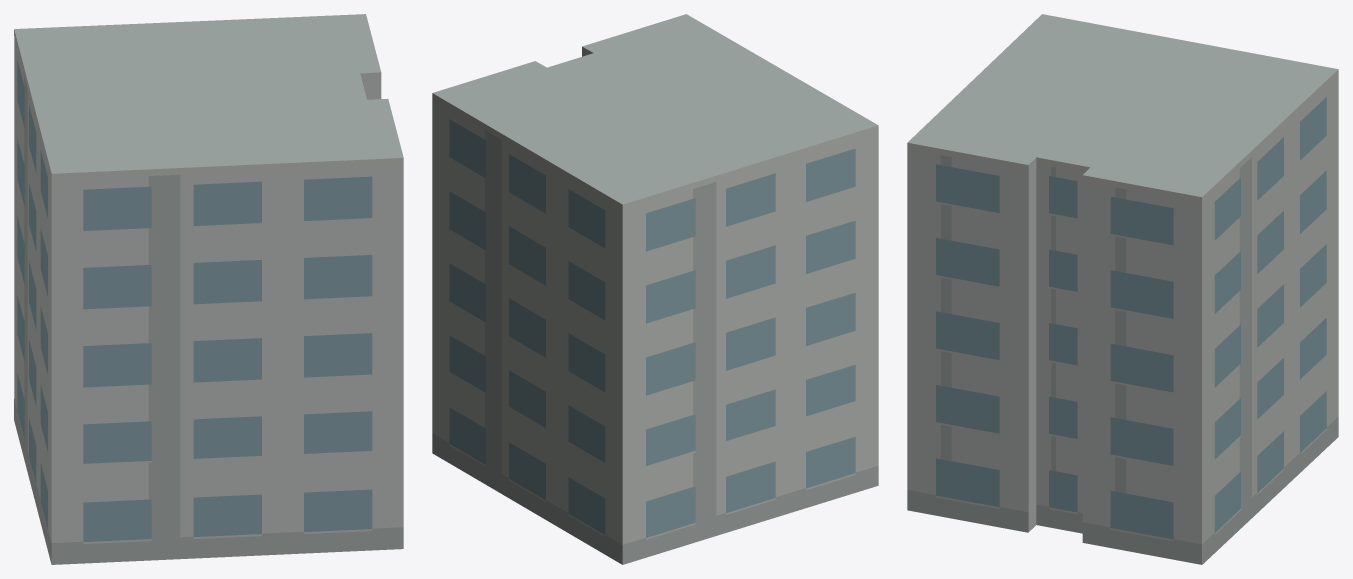
Rendered from survey-upis-32529955.glb.
3 renders of one model, left to right at view 1: azimuth 30°, elevation 25°; view 2: azimuth 150°, elevation 25°; view 3: azimuth 270°, elevation 25°, orthographic. The views are drawn at different scales.
Visible parts, largest first — view 1: survey-upis-32529955.tmp; view 2: survey-upis-32529955.tmp; view 3: survey-upis-32529955.tmp.
Part boxes in pixels (x1=…): survey-upis-32529955.tmp: x1=14, y1=14, x2=403, y2=564; survey-upis-32529955.tmp: x1=432, y1=14, x2=878, y2=564; survey-upis-32529955.tmp: x1=907, y1=14, x2=1338, y2=564.
Bounding box in the file's own units: 15.19 × 14.2 × 15.11.
